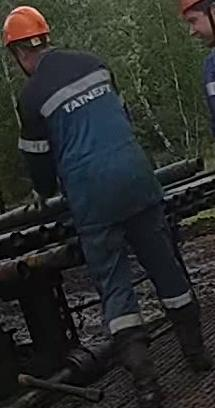helmet: (1, 5, 50, 47), (179, 0, 215, 24)
vest: (30, 47, 164, 229)
